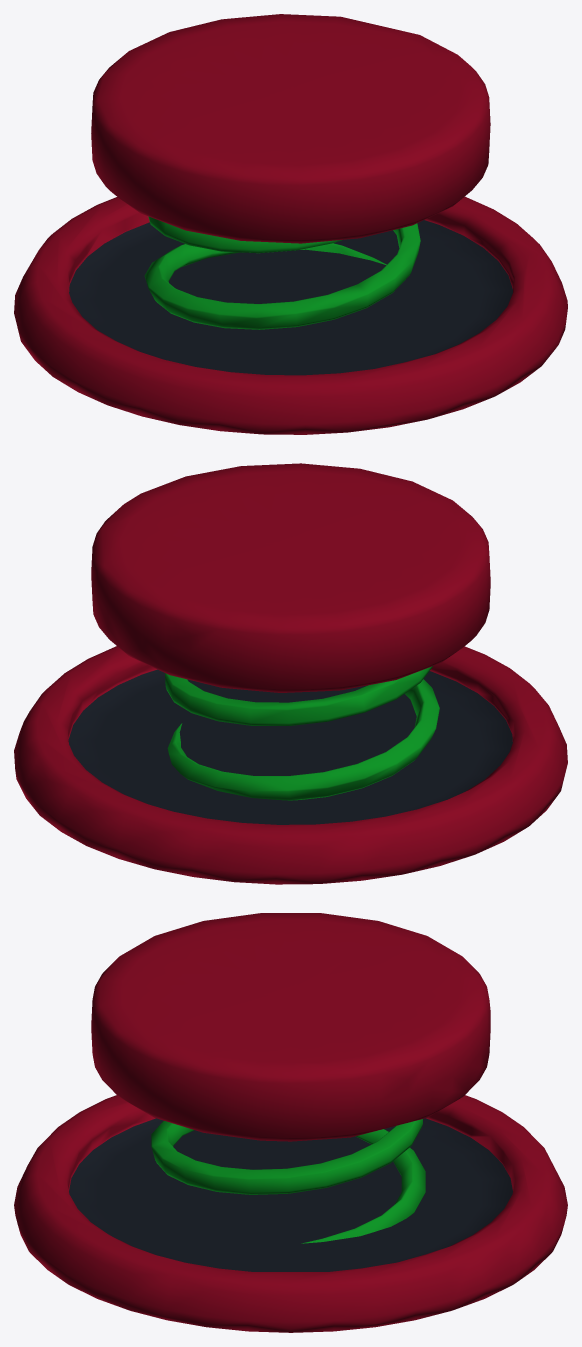
Rendered from Launchpad.glb.
3 views of the same model, one above another, from view 1: azimuth 30°, elevation 25°; view 2: azimuth 150°, elevation 25°; view 3: azimuth 270°, elevation 25° (orthographic).
Parts seen in each view (by area): view 1: Launchpad; view 2: Launchpad; view 3: Launchpad.
Boxes of the visible parts, left/top/right/bottom form: Launchpad: left=14, top=14, right=567, bottom=434; Launchpad: left=14, top=463, right=567, bottom=884; Launchpad: left=14, top=913, right=567, bottom=1332.
Bounding box in the file's own units: 1.98 × 0.8937 × 1.98.
